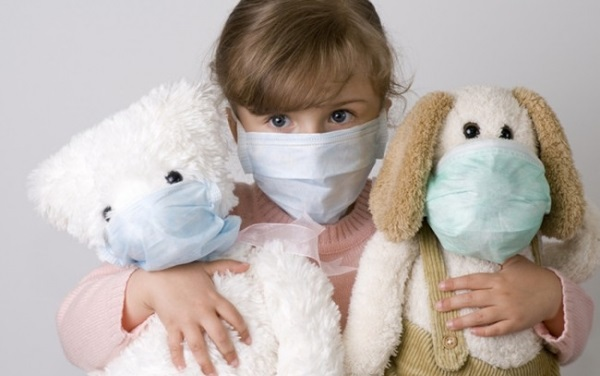face_mask: (233, 57, 378, 221), (425, 116, 552, 263), (81, 171, 240, 270)
